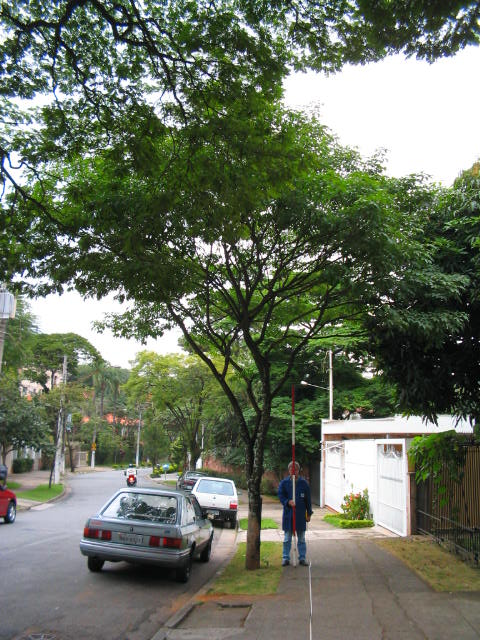crown: (3, 101, 466, 361)
stem: (236, 476, 270, 569)
stick: (276, 385, 312, 566)
tree: (1, 99, 468, 571), (116, 355, 240, 470)
